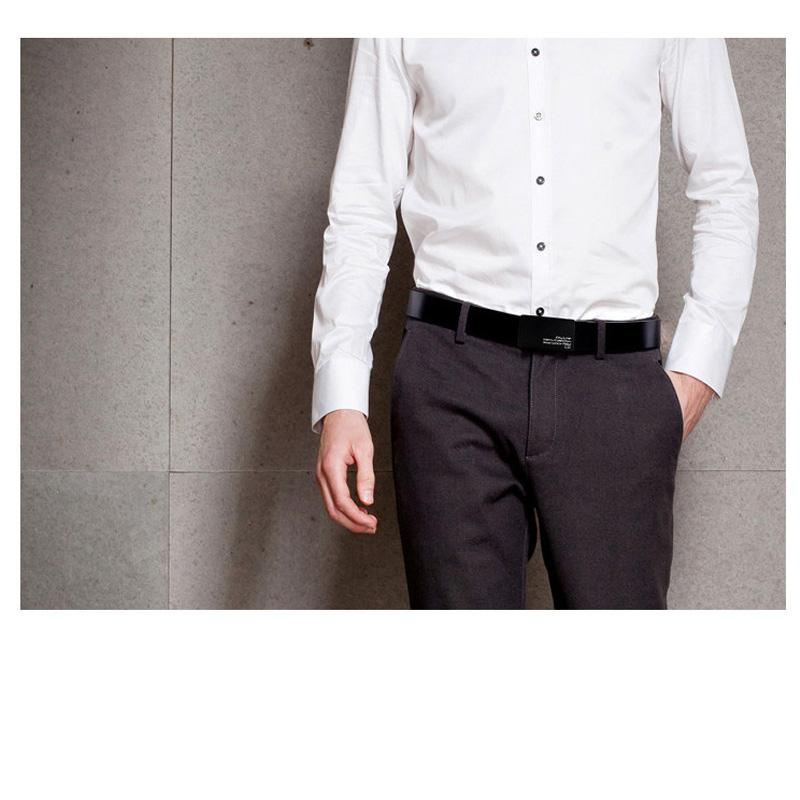F_belt: (393, 282, 670, 367)
F_dress pants: (397, 288, 674, 605)
F_shirt: (304, 37, 768, 427)
